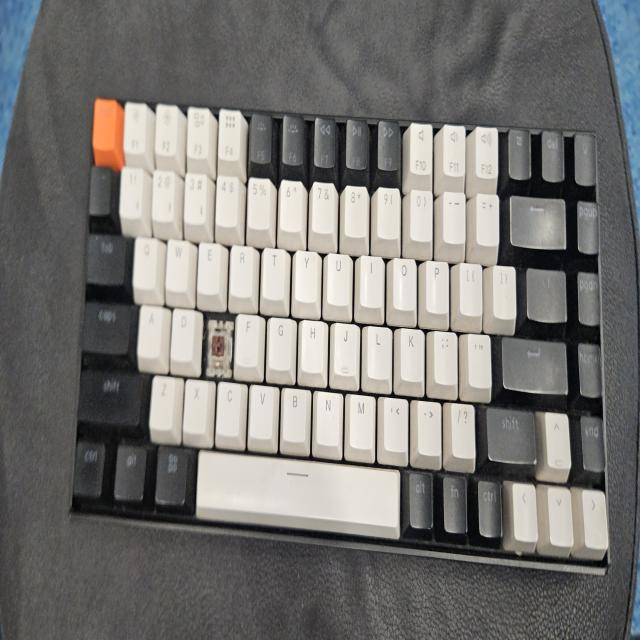C: (210, 321, 228, 376), (210, 322, 229, 368)
